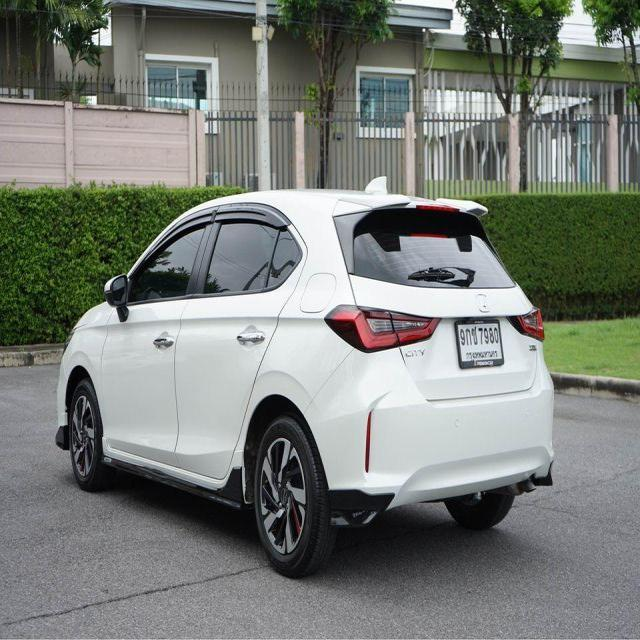Hatchback: (54, 189, 557, 581)
